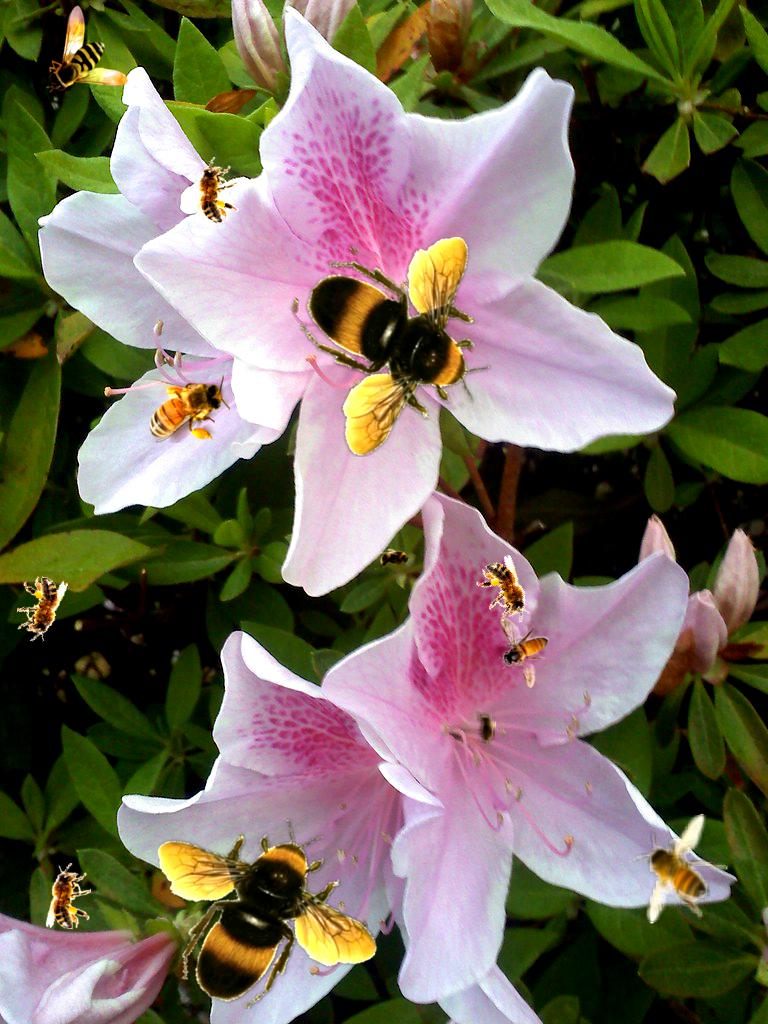Bee: (158, 818, 378, 1009), (300, 237, 491, 457), (634, 813, 728, 924), (46, 5, 128, 93), (137, 375, 230, 443), (469, 552, 543, 633), (11, 572, 69, 647), (189, 155, 241, 226), (499, 617, 549, 688), (46, 863, 91, 929), (374, 547, 416, 571), (475, 709, 497, 749)
